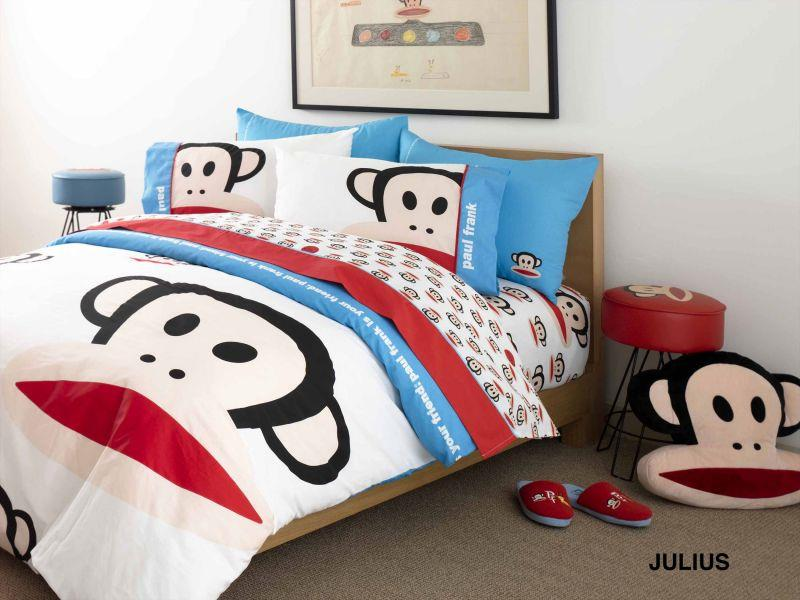Paul_Frank_Julius: (336, 158, 469, 263)
